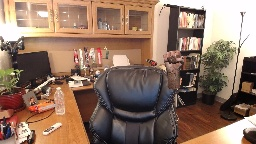Pugno: (162, 49, 185, 71)
